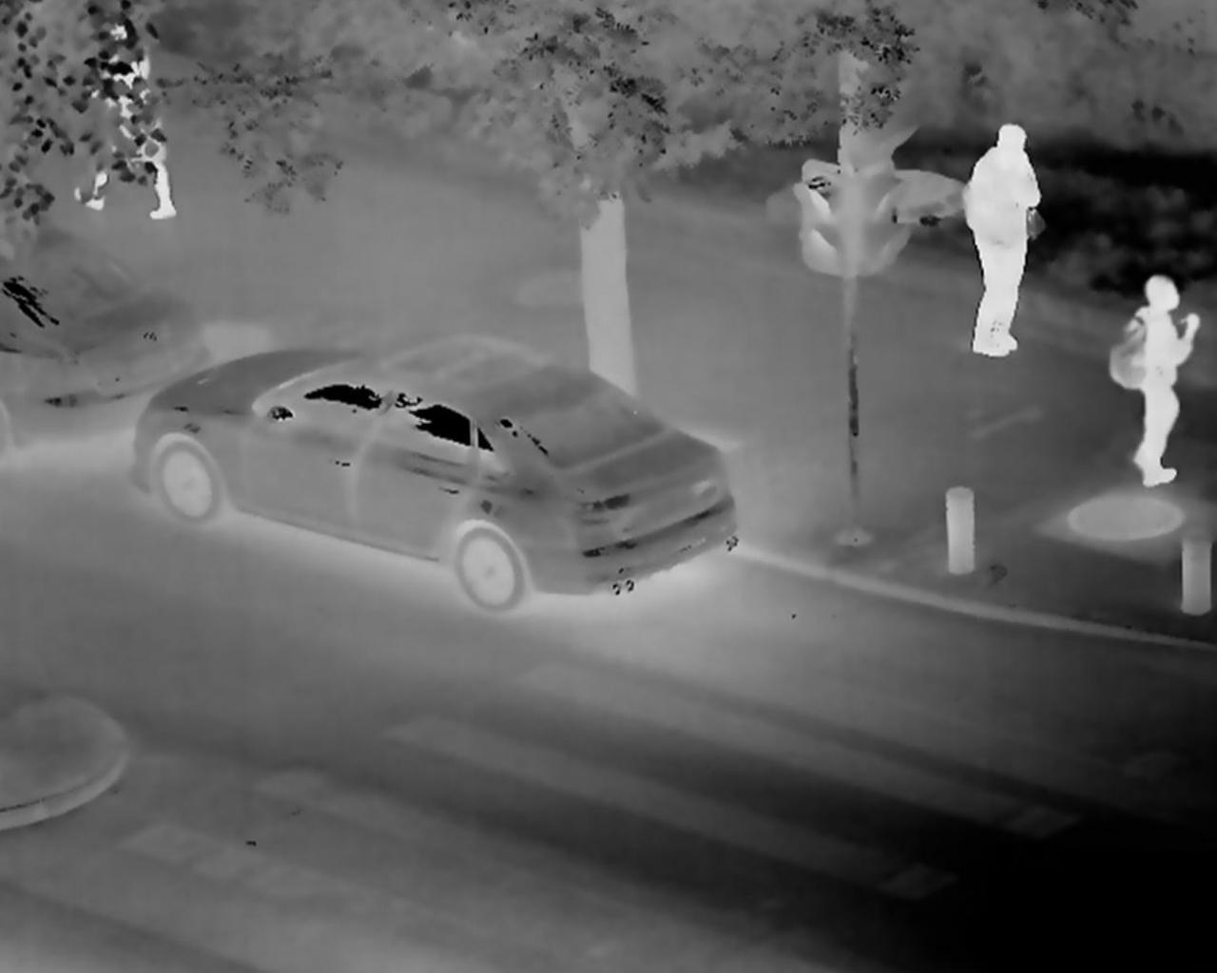person: (1095, 257, 1199, 506), (79, 17, 195, 233), (956, 111, 1041, 355)
